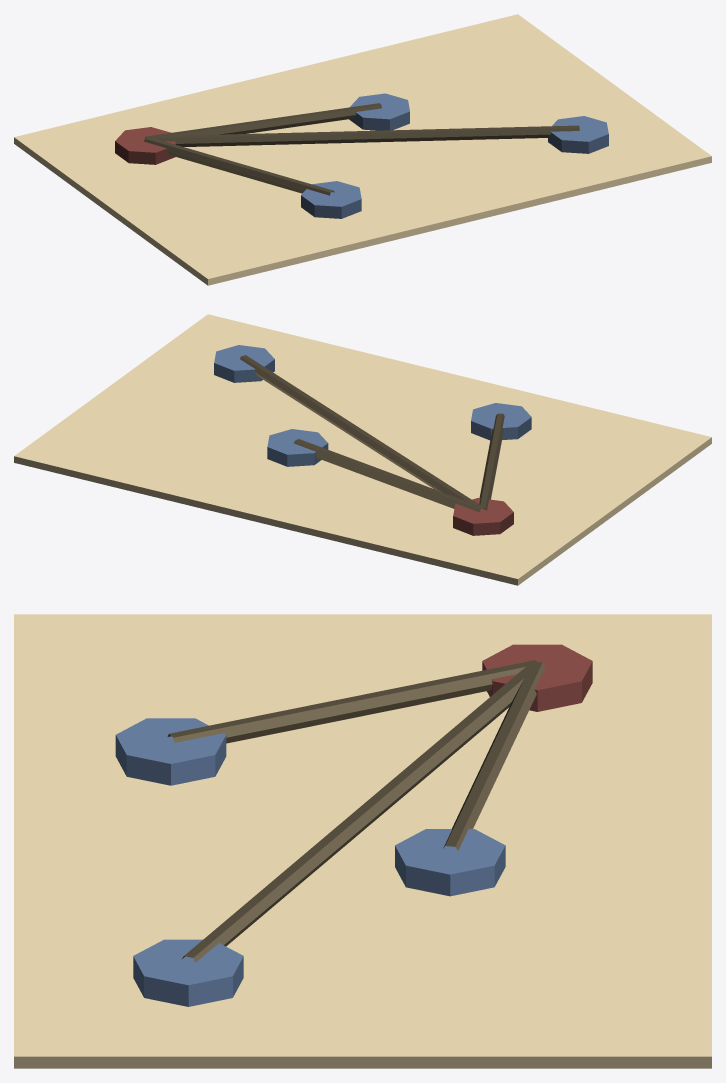
The picture shows the model from 3 angles, top to bottom: view 1: azimuth 30°, elevation 25°; view 2: azimuth 150°, elevation 25°; view 3: azimuth 270°, elevation 25°; orthographic projection. The views are drawn at different scales.
Parts seen in each view (by area): view 1: 05eeade98d12ba14d0340bdd323a713e91b73c1afff52438cf7b0e28d767; view 2: 05eeade98d12ba14d0340bdd323a713e91b73c1afff52438cf7b0e28d767; view 3: 05eeade98d12ba14d0340bdd323a713e91b73c1afff52438cf7b0e28d767.
Boxes of the visible parts, left/top/right/bottom form: 05eeade98d12ba14d0340bdd323a713e91b73c1afff52438cf7b0e28d767: left=14, top=14, right=711, bottom=285; 05eeade98d12ba14d0340bdd323a713e91b73c1afff52438cf7b0e28d767: left=14, top=314, right=711, bottom=585; 05eeade98d12ba14d0340bdd323a713e91b73c1afff52438cf7b0e28d767: left=14, top=614, right=711, bottom=1068.
Size of the model in its own units: 1.2 by 0.0479 by 0.8.
1 material, 1 textured.
